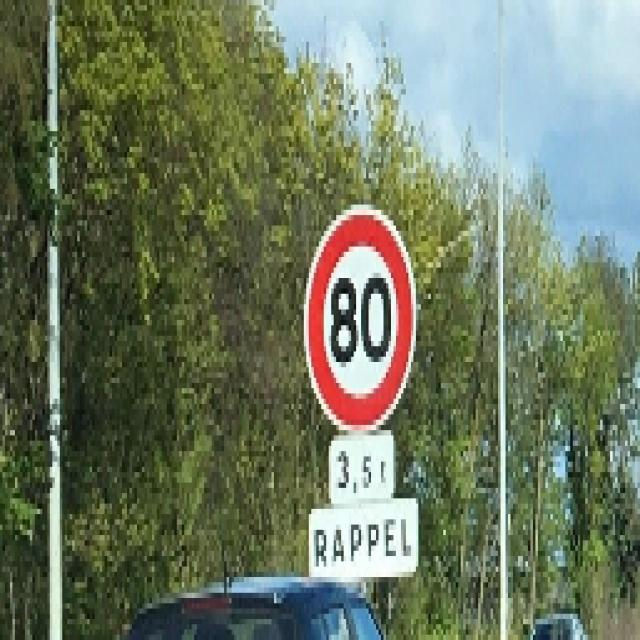speed_80: (302, 201, 418, 434)
